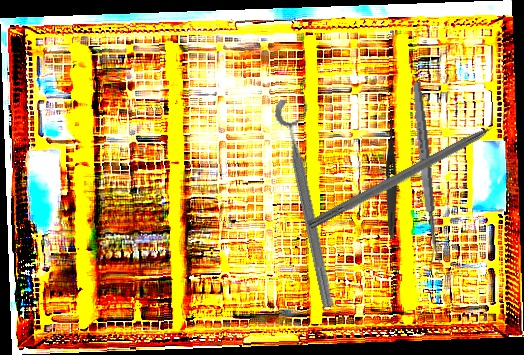Dressing Forceps: (384, 112, 398, 239)
Fixation Ring: (272, 94, 352, 310)
Hook Surgical: (306, 110, 520, 233)
Surgical Spoon: (410, 81, 442, 265)
